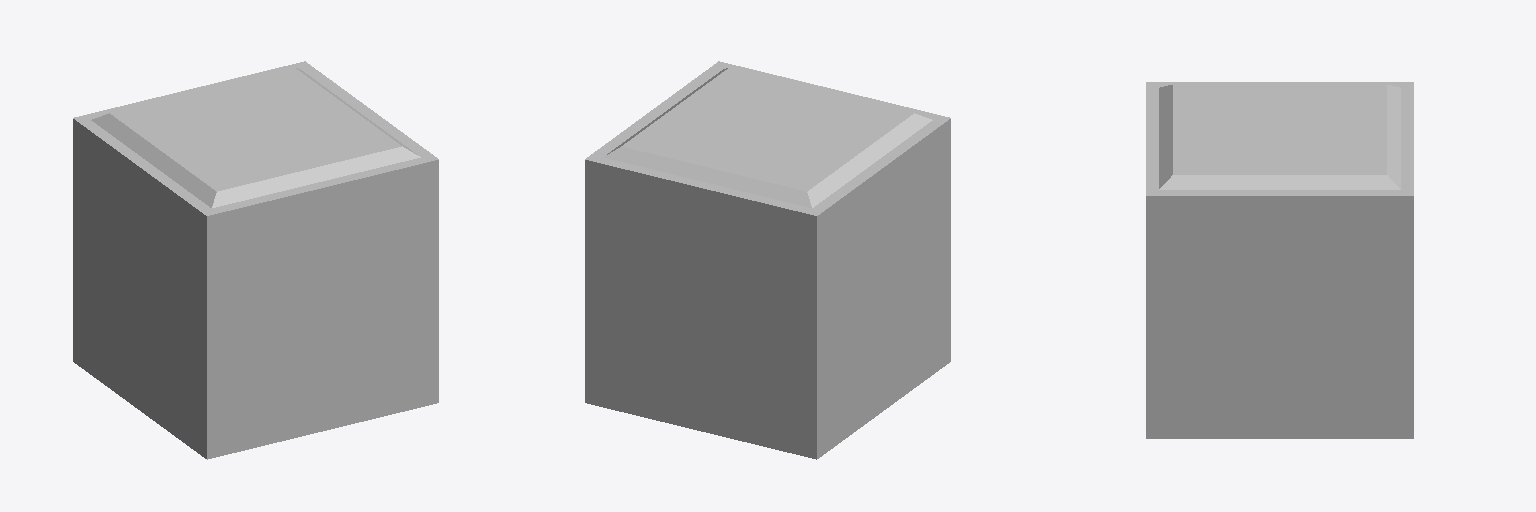
File: tileDummy.obj
The picture shows the model from 3 angles: view 1: azimuth 30°, elevation 25°; view 2: azimuth 150°, elevation 25°; view 3: azimuth 270°, elevation 25°; orthographic projection.
Visible parts, largest first — view 1: tile; view 2: tile; view 3: tile.
Part boxes in pixels (x1,y1,x2,y2): tile: (73, 61, 438, 459); tile: (585, 61, 950, 459); tile: (1146, 82, 1413, 438).
Size of the model in its own units: 3 by 3.11 by 3.